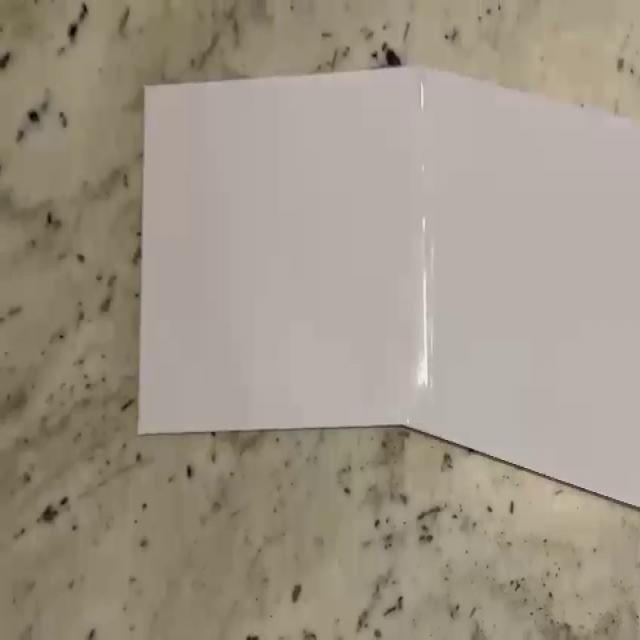road: (137, 65, 640, 509)
